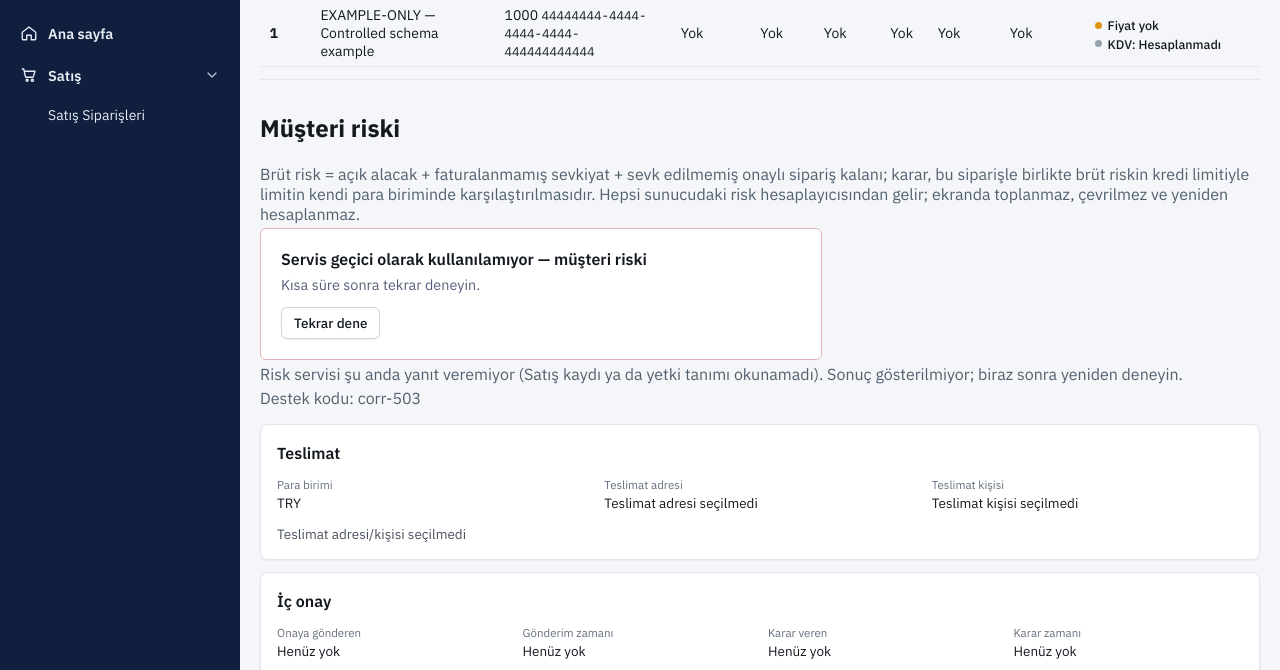
it: S-04 customer risk card (API-06 / UI-15) › on a 503 shows no result, names the outage with its support code, and retries the same read-only URL
This screenshot has width=1280, height=670.
(page scrolled)
Expected: the text with test id "sales-risk-unreadable" shows "Risk servisi şu anda yanıt veremiyor (Satış kaydı ya da yetki tanımı okunamadı). Sonuç gösterilmiyor; biraz sonra yeniden deneyin.", [260,364,1183,384]
Click the button "Tekrar dene".
click(331, 323)  # box [281,307,380,339]
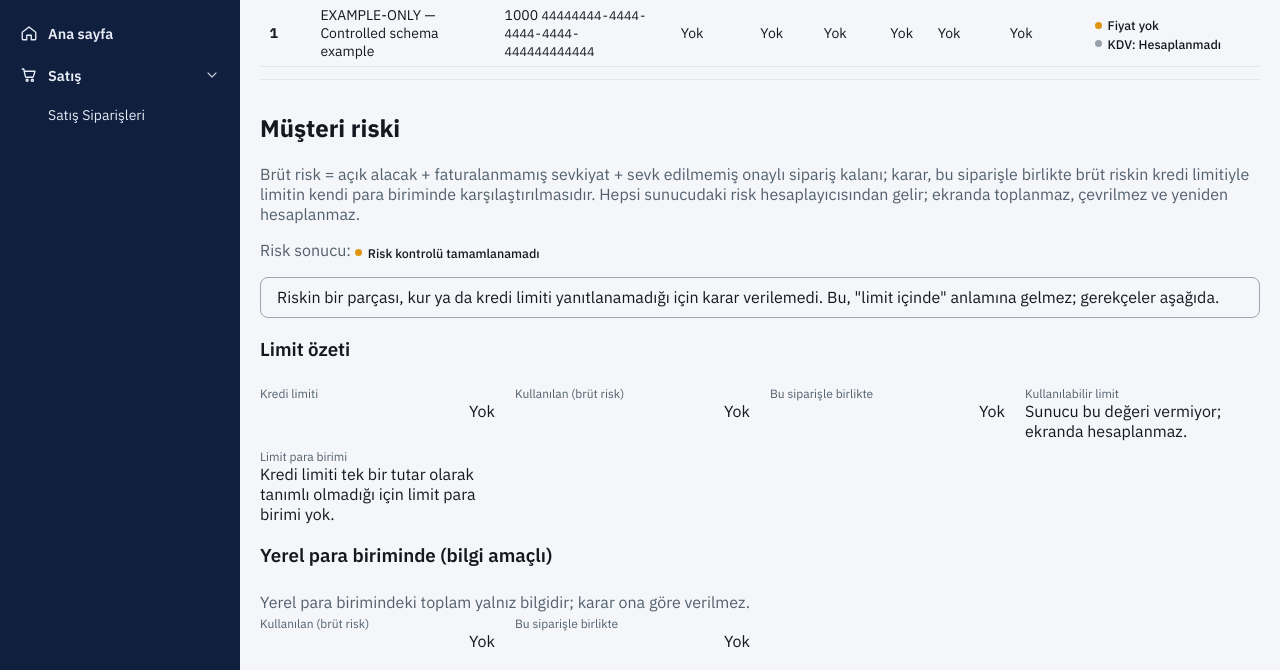
Expected: the message "Risk sonucu: Risk kontrolü tamamlanamadı" is shown, [260,240,540,261]
